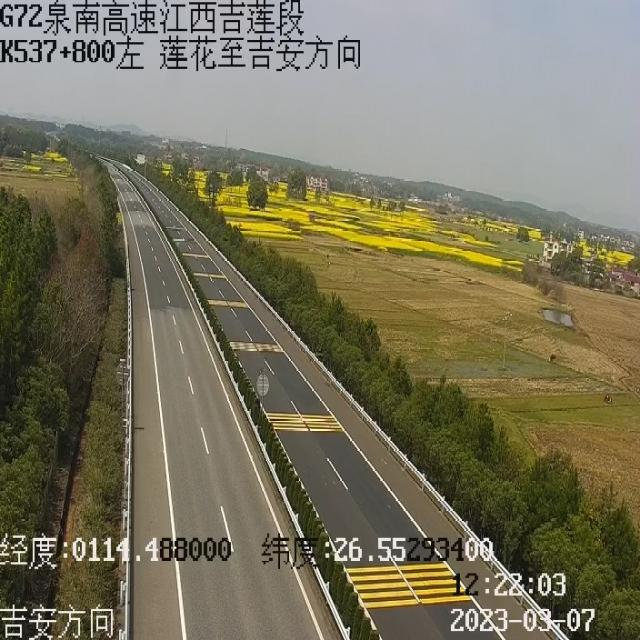point: (90, 143, 136, 187)
